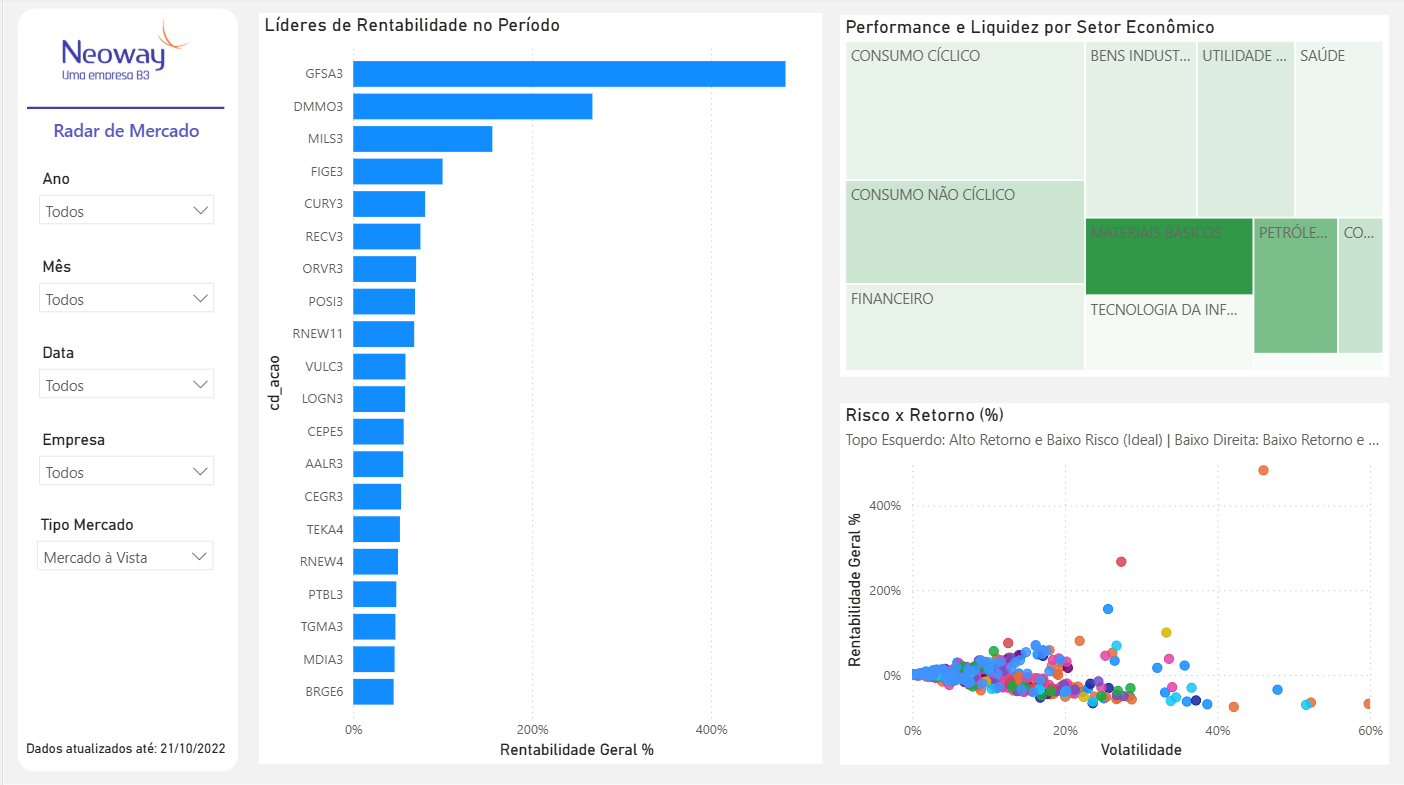

The page's visual inventory and layout, read from the dashboard file:
{"tool":"powerbi","page":{"name":"Radar de Mercado","canvas":[1280,720],"ordinal":1},"visuals":[{"type":"slicer","title":"Ano","fields":{"Values":["dCalendario.Ano"]},"box":[22.4,152.8,180,70],"z":0},{"type":"slicer","title":"Mês","fields":{"Values":["dCalendario.MesNome"]},"box":[22.4,232.2,179.9,70],"z":1000},{"type":"slicer","fields":{"Values":["dCalendario.Date"]},"box":[22.4,311.4,179.9,70],"z":2000},{"type":"image","box":[52.4,14.7,119.1,66.3],"z":3000},{"type":"shape","box":[22,95.2,180,12.5],"z":4000},{"type":"textbox","box":[16.8,105.6,192,46.6],"z":5000},{"type":"card","fields":{"Values":["_Dimensoes.Ultima_Atualizacao"]},"box":[15.9,673.3,193,26.1],"z":6000},{"type":"slicer","fields":{"Values":["fCotacoes.tipo_mercado_desc"]},"box":[21,468,180.6,70.2],"z":7000},{"type":"slicer","fields":{"Values":["dEmpresas.nm_empresa"]},"box":[22.8,390.5,179.7,69.3],"z":8000},{"type":"treemap","title":"Performance e Liquidez por Setor Econômico","fields":{"Group":["dEmpresas.setor_economico"],"Values":["Sum(fCotacoes.vl_volume)"]},"box":[763.9,16.6,500.6,329.6],"z":9000},{"type":"scatterChart","title":"Risco x Retorno (%)","fields":{"X":["_Medidas.Volatilidade"],"Y":["_Medidas.Rentabilidade Geral %"],"Category":["dEmpresas.cd_acao"],"Size":["_Medidas.Rentabilidade Geral %"],"Series":["dEmpresas.setor_economico"]},"box":[763.7,374.1,500.9,329.7],"z":10000},{"type":"clusteredBarChart","title":"Líderes de Rentabilidade no Período","fields":{"Category":["dEmpresas.cd_acao"],"Y":["_Medidas.Rentabilidade Geral %"]},"box":[232.8,166.7,514.5,532.7],"z":11000},{"type":"card","fields":{"Values":["Avg(fDadosExternos.Dolar_Venda)"]},"box":[232.8,0,257.3,150.4],"z":11001},{"type":"card","fields":{"Values":["_Medidas.Selic_Atual"]},"box":[490,0,258,150],"z":11002},{"type":"actionButton","box":[30.8,614.1,43.5,39.9],"z":11003},{"type":"actionButton","box":[149.5,614.1,40.8,39.9],"z":11004}]}

Visuals, with their boxes in screenshot pixels (x1, y1, x2, y2), scaled from the page's 1280x720 canvas onto the 1404x785 screenshot:
"Ano" slicer: x1=25, y1=167, x2=222, y2=243
"Mês" slicer: x1=25, y1=253, x2=222, y2=329
slicer - dCalendario.Date: x1=25, y1=340, x2=222, y2=416
image: x1=57, y1=16, x2=188, y2=88
shape: x1=24, y1=104, x2=222, y2=117
textbox: x1=18, y1=115, x2=229, y2=166
card - _Dimensoes.Ultima_Atualizacao: x1=17, y1=734, x2=229, y2=763
slicer - fCotacoes.tipo_mercado_desc: x1=23, y1=510, x2=221, y2=587
slicer - dEmpresas.nm_empresa: x1=25, y1=426, x2=222, y2=501
"Performance e Liquidez por Setor Econômico" treemap: x1=838, y1=18, x2=1387, y2=377
"Risco x Retorno (%)" scatterChart: x1=838, y1=408, x2=1387, y2=767
"Líderes de Rentabilidade no Período" clusteredBarChart: x1=255, y1=182, x2=820, y2=763
card - Avg(fDadosExternos.Dolar_Venda): x1=255, y1=0, x2=538, y2=164
card - _Medidas.Selic_Atual: x1=537, y1=0, x2=820, y2=164
actionButton: x1=34, y1=670, x2=81, y2=713
actionButton: x1=164, y1=670, x2=209, y2=713
